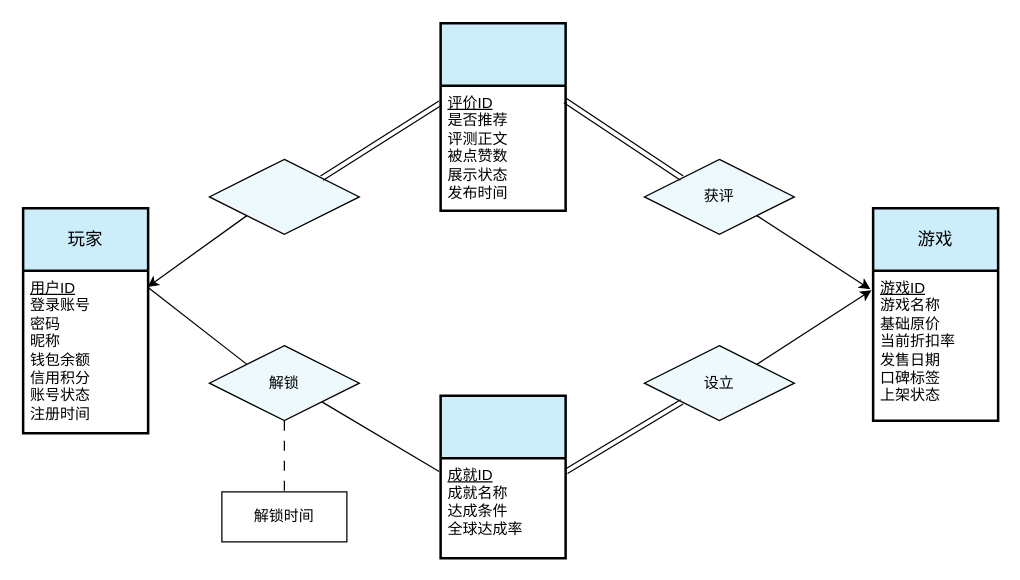
The diagram is 1020 pixels wide and 580 high, and some of its shapes have lost their labels. The shapes that lost their labels are listed below. From the top down, each one's box as (x1, y1, x2, y2) in pixels, then its label:
(439, 21, 566, 211): 评价
(208, 158, 359, 234): 发表
(439, 394, 566, 559): 成就
